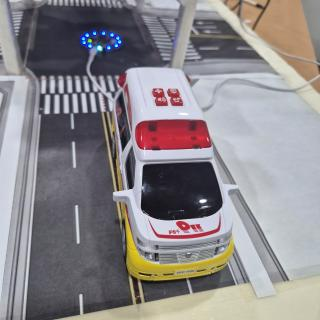Ambulance: (111, 67, 238, 280)
